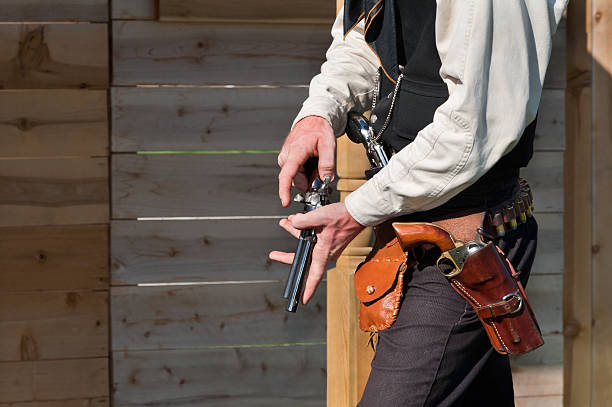gun: (392, 223, 545, 360), (280, 171, 333, 316), (343, 112, 388, 171)
